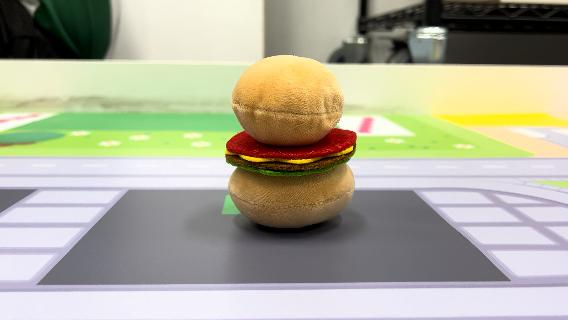burger: (222, 52, 361, 230)
